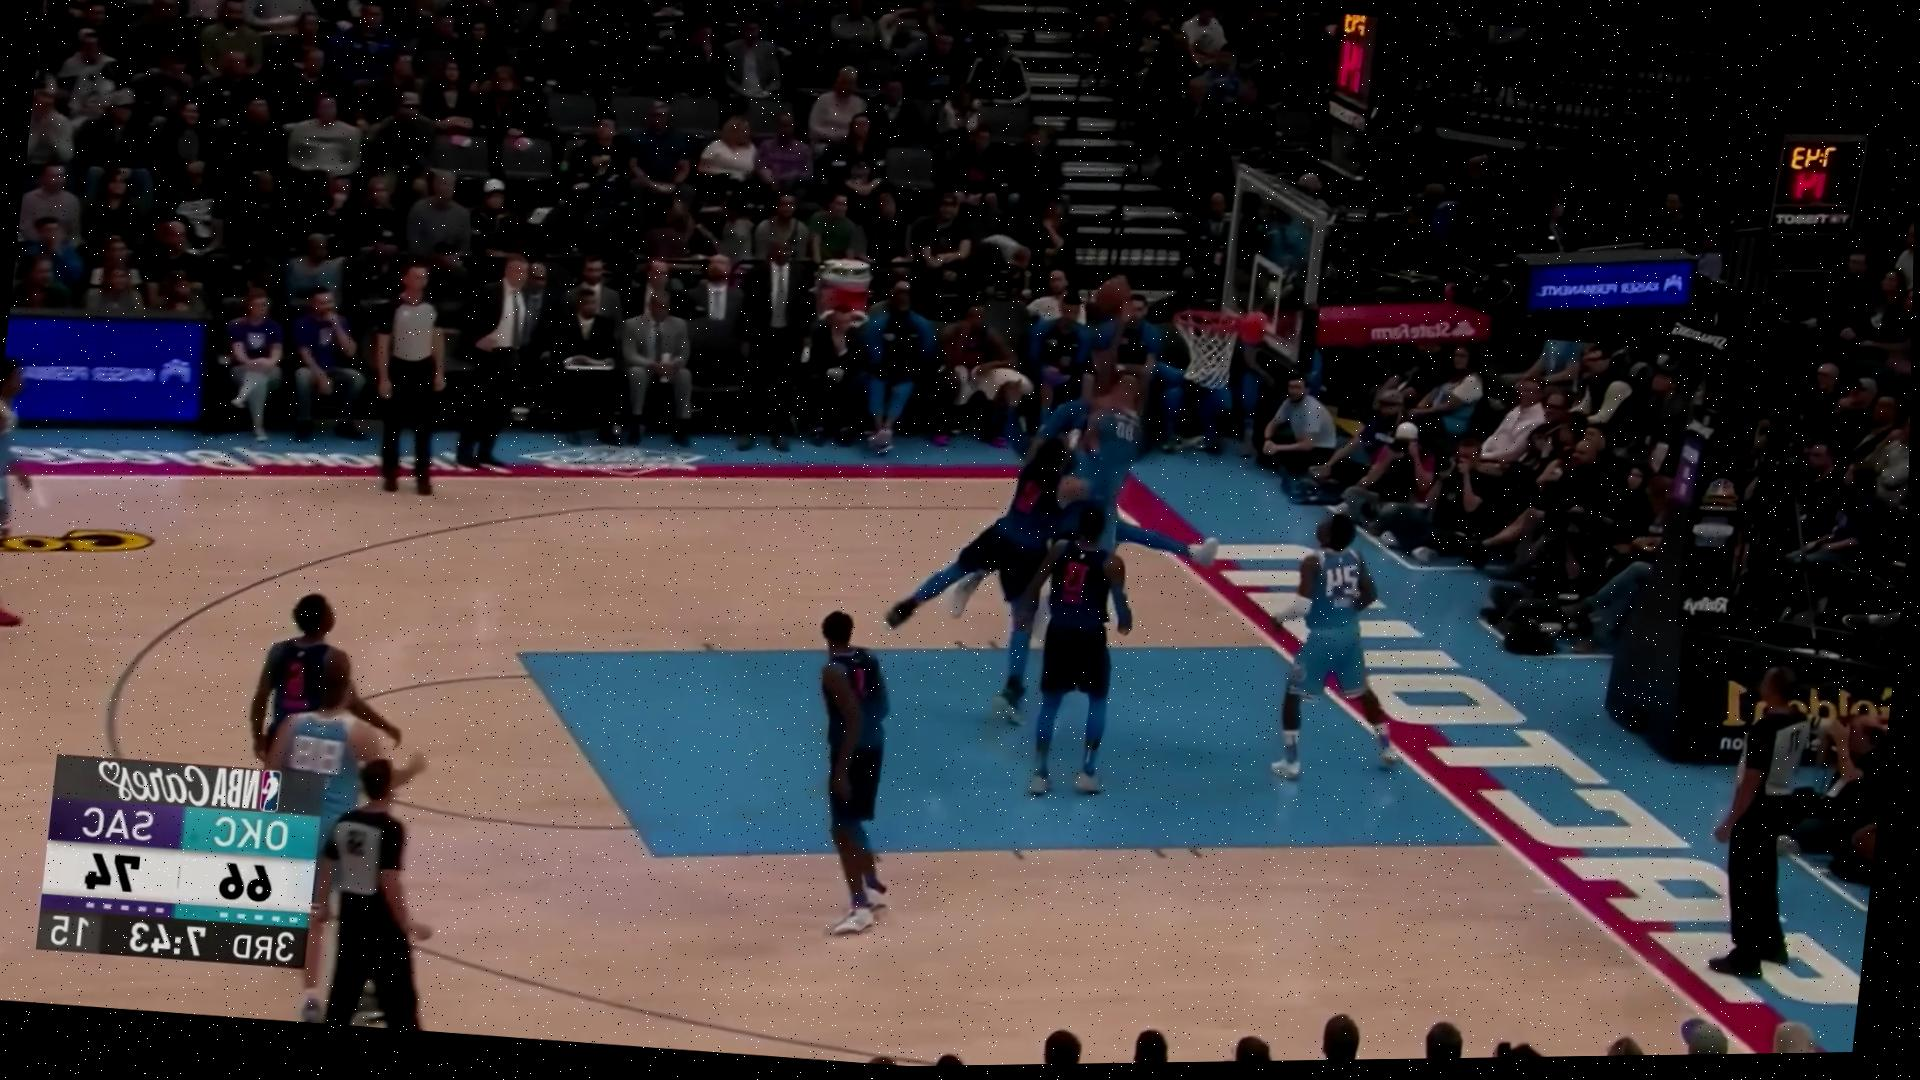foul: (872, 327, 1201, 727)
